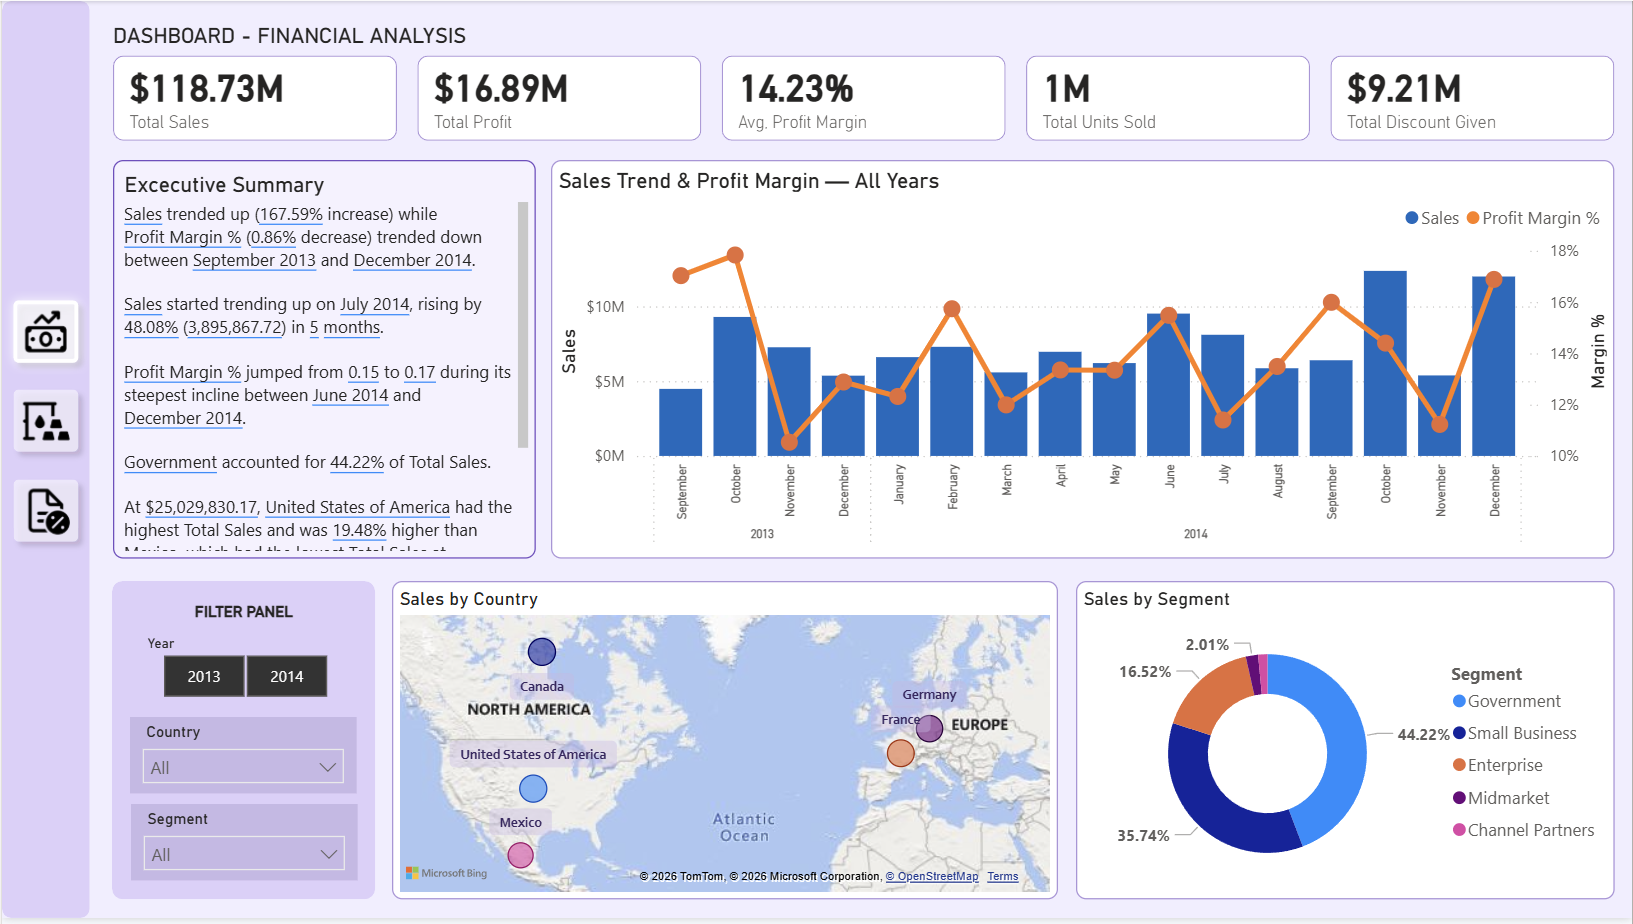

The page's visual inventory and layout, read from the dashboard file:
{"tool":"powerbi","page":{"name":"Financial Analysis","canvas":[1280,720],"ordinal":0},"visuals":[{"type":"shape","box":[86.7,455.6,206.7,250],"z":0},{"type":"lineClusteredColumnComboChart","fields":{"Y":["Sum(financials.Sales)"],"Y2":["financials.Profit Margin"],"Category":["financials.Date.Variation.Date Hierarchy.Year","financials.Date.Variation.Date Hierarchy.Month"]},"box":[430.9,124.5,834.5,312.7],"z":1000},{"type":"map","title":"Sales by Country","fields":{"Category":["financials.Country"],"Size":["financials.Total Sales"],"Series":["financials.Country"]},"box":[306.3,455.5,523.1,250.1],"z":2000},{"type":"donutChart","title":"Sales by Segment","fields":{"Category":["financials.Segment"],"Y":["Sum(financials.Sales)"]},"box":[843.6,455.5,422.7,250],"z":3000},{"type":"slicer","title":"Year","fields":{"Values":["financials.Date.Variation.Date Hierarchy.Year"]},"box":[101.7,493.3,178,60],"z":4000},{"type":"slicer","fields":{"Values":["financials.Country"]},"box":[100.9,562.3,177.9,60],"z":5000},{"type":"slicer","fields":{"Values":["financials.Segment"]},"box":[101.3,630.9,178.2,60.4],"z":6000},{"type":"cardVisual","title":"DASHBOARD - FINANCIAL ANALYSIS","fields":{"Data":["Sum(financials.Sales)","Sum(financials.Profit)","financials.Profit Margin","Sum(financials.Units Sold)","financials.Total Discount Given"]},"box":[86.9,12,1179.4,113.1],"z":7000},{"type":"textbox","box":[135.1,464.9,110,27.9],"z":8000},{"type":"shape","box":[0,0,68.9,720],"z":9000},{"type":"actionButton","box":[0,226.3,68.9,66.9],"z":10000},{"type":"actionButton","box":[0,296.1,68.9,66.9],"z":11000},{"type":"actionButton","box":[0,367,68.9,66.9],"z":12000},{"type":"textbox","title":"Excecutive Summary","box":[87.3,124.5,331.8,312.7],"z":13000}]}

Visuals, with their boxes on the page's 1280x720 design canvas (x1, y1, x2, y2). These are canvas units, not pixel positions in the 1633x924 screenshot, which may show the page scaled, cropped or inside an application window:
shape: 87/456/293/706
lineClusteredColumnComboChart - Sum(financials.Sales) x financials.Profit Margin: 431/124/1265/437
"Sales by Country" map: 306/456/829/706
"Sales by Segment" donutChart: 844/456/1266/706
"Year" slicer: 102/493/280/553
slicer - financials.Country: 101/562/279/622
slicer - financials.Segment: 101/631/280/691
"DASHBOARD - FINANCIAL ANALYSIS" cardVisual: 87/12/1266/125
textbox: 135/465/245/493
shape: 0/0/69/720
actionButton: 0/226/69/293
actionButton: 0/296/69/363
actionButton: 0/367/69/434
"Excecutive Summary" textbox: 87/124/419/437
